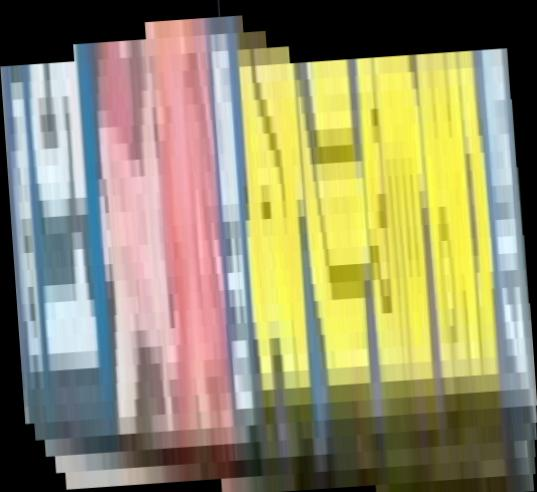flat: (1, 1, 537, 492)
